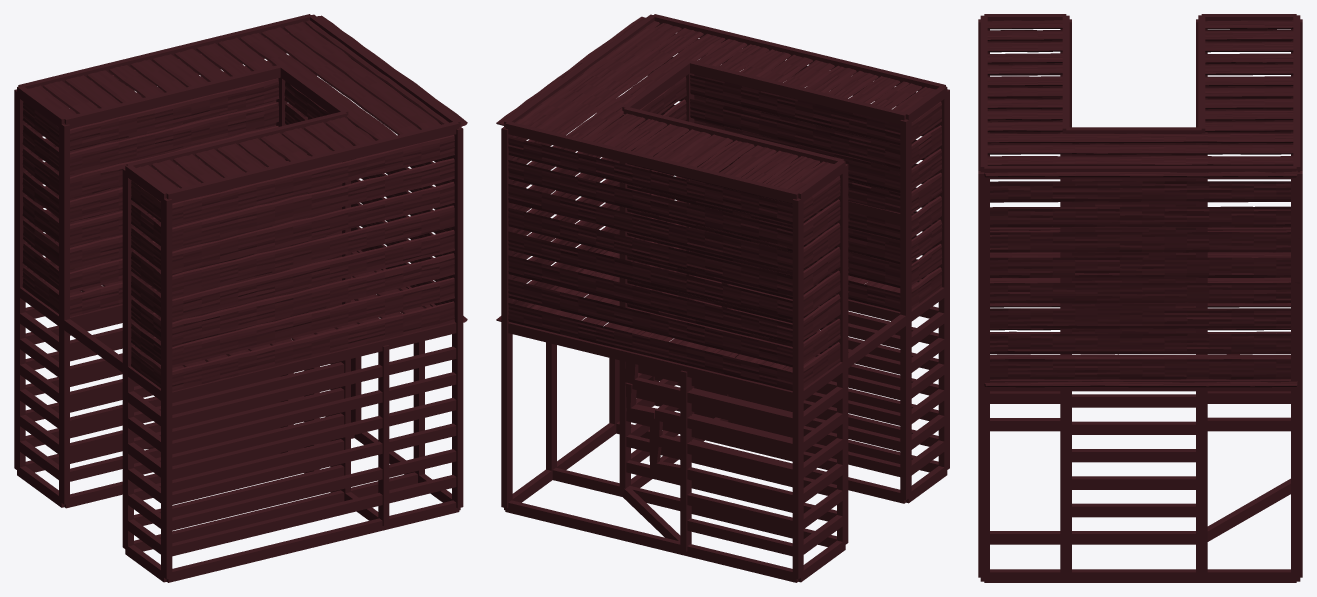
Rendered from level_one_shack_two.fbx.
3 views of the same model, side by side, from view 1: azimuth 30°, elevation 25°; view 2: azimuth 150°, elevation 25°; view 3: azimuth 270°, elevation 25° (orthographic). The views are drawn at different scales.
Visible parts, largest first — view 1: Shack02; view 2: Shack02; view 3: Shack02.
Boxes of the visible parts, x1,y1,x2,y2 form: Shack02: [14, 14, 467, 582]; Shack02: [496, 14, 949, 582]; Shack02: [978, 14, 1302, 582].
Bounding box in the file's own units: 1384 × 1608 × 1953.
